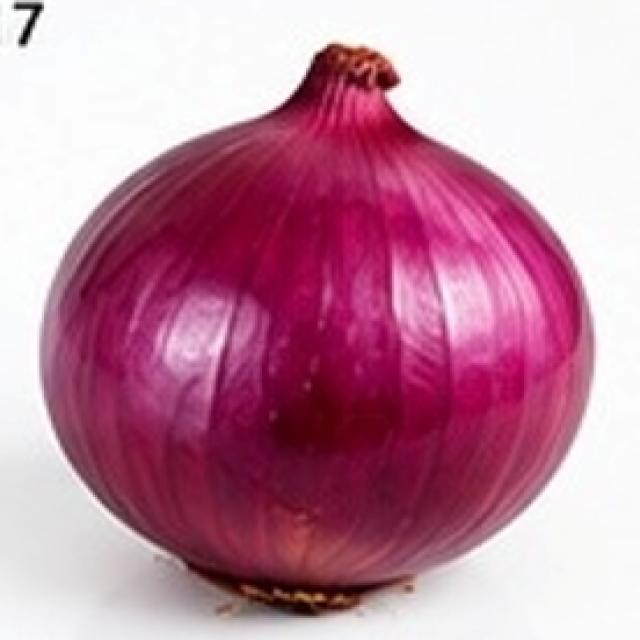healthy: (35, 0, 638, 609), (263, 203, 265, 205)
